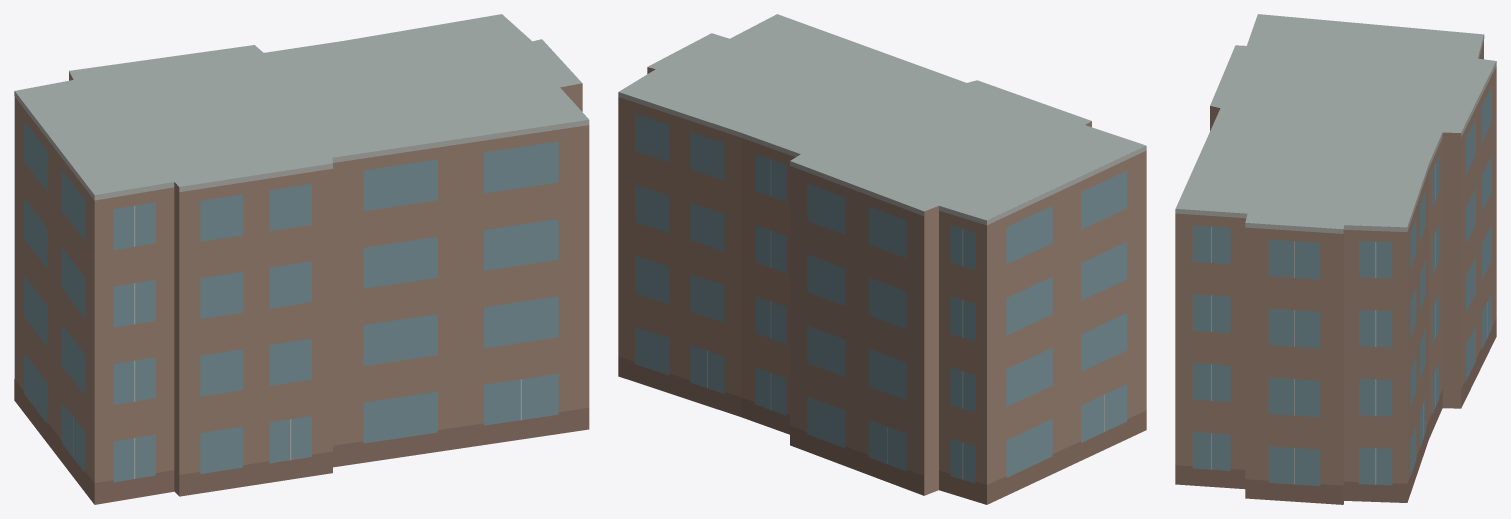
File: survey-upis-32473125.glb
3 renders of one model, left to right at view 1: azimuth 30°, elevation 25°; view 2: azimuth 150°, elevation 25°; view 3: azimuth 270°, elevation 25°, orthographic. The views are drawn at different scales.
Parts seen in each view (by area): view 1: survey-upis-32473125.tmp; view 2: survey-upis-32473125.tmp; view 3: survey-upis-32473125.tmp.
Part boxes in pixels (x1=…): survey-upis-32473125.tmp: x1=14, y1=14, x2=589, y2=504; survey-upis-32473125.tmp: x1=618, y1=14, x2=1146, y2=504; survey-upis-32473125.tmp: x1=1175, y1=14, x2=1496, y2=504.
Bounding box in the file's own units: 23.96 × 14.3 × 15.11.
